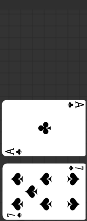7C: (67, 165, 84, 172)
AC: (66, 101, 84, 110)
